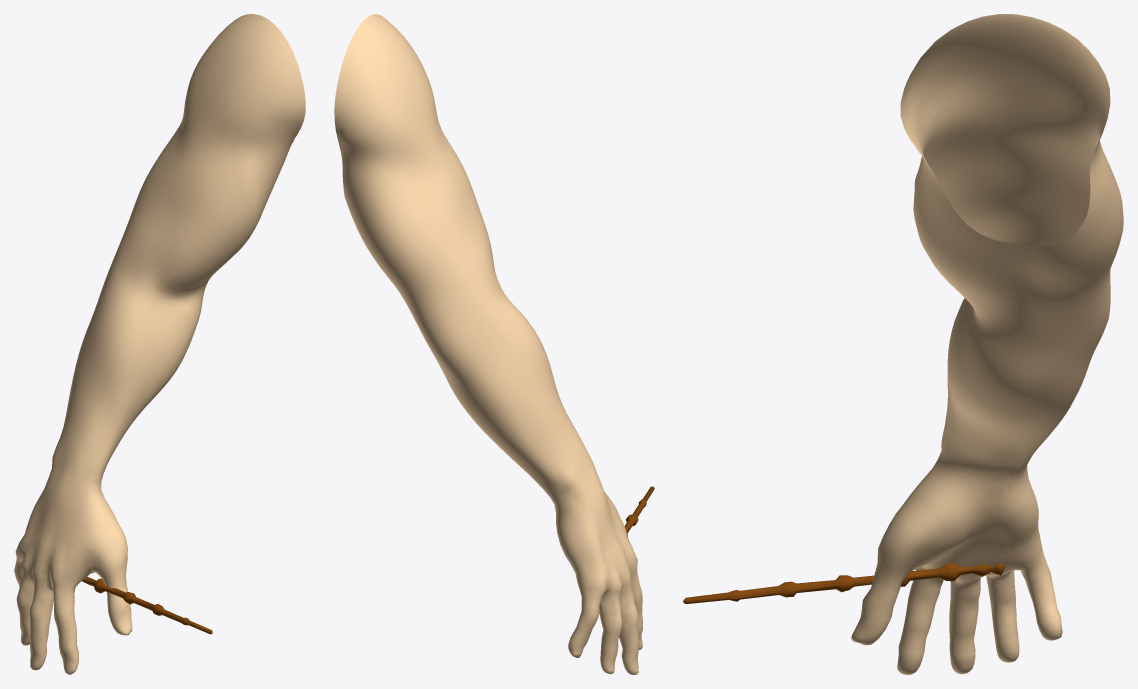
Rendered from rightarm_wand.fbx.
3 renders of one model, left to right at view 1: azimuth 30°, elevation 25°; view 2: azimuth 150°, elevation 25°; view 3: azimuth 270°, elevation 25°, orthographic. The views are drawn at different scales.
Parts seen in each view (by area): view 1: body, Cylinder; view 2: body; view 3: body, Cylinder.
Part boxes in pixels (x1=…): body: x1=14, y1=14, x2=305, y2=674; Cylinder: x1=81, y1=576, x2=212, y2=634; body: x1=334, y1=14, x2=642, y2=674; body: x1=851, y1=14, x2=1123, y2=674; Cylinder: x1=683, y1=563, x2=1004, y2=603.
Bounding box in the file's own units: 362 × 795 × 383.
